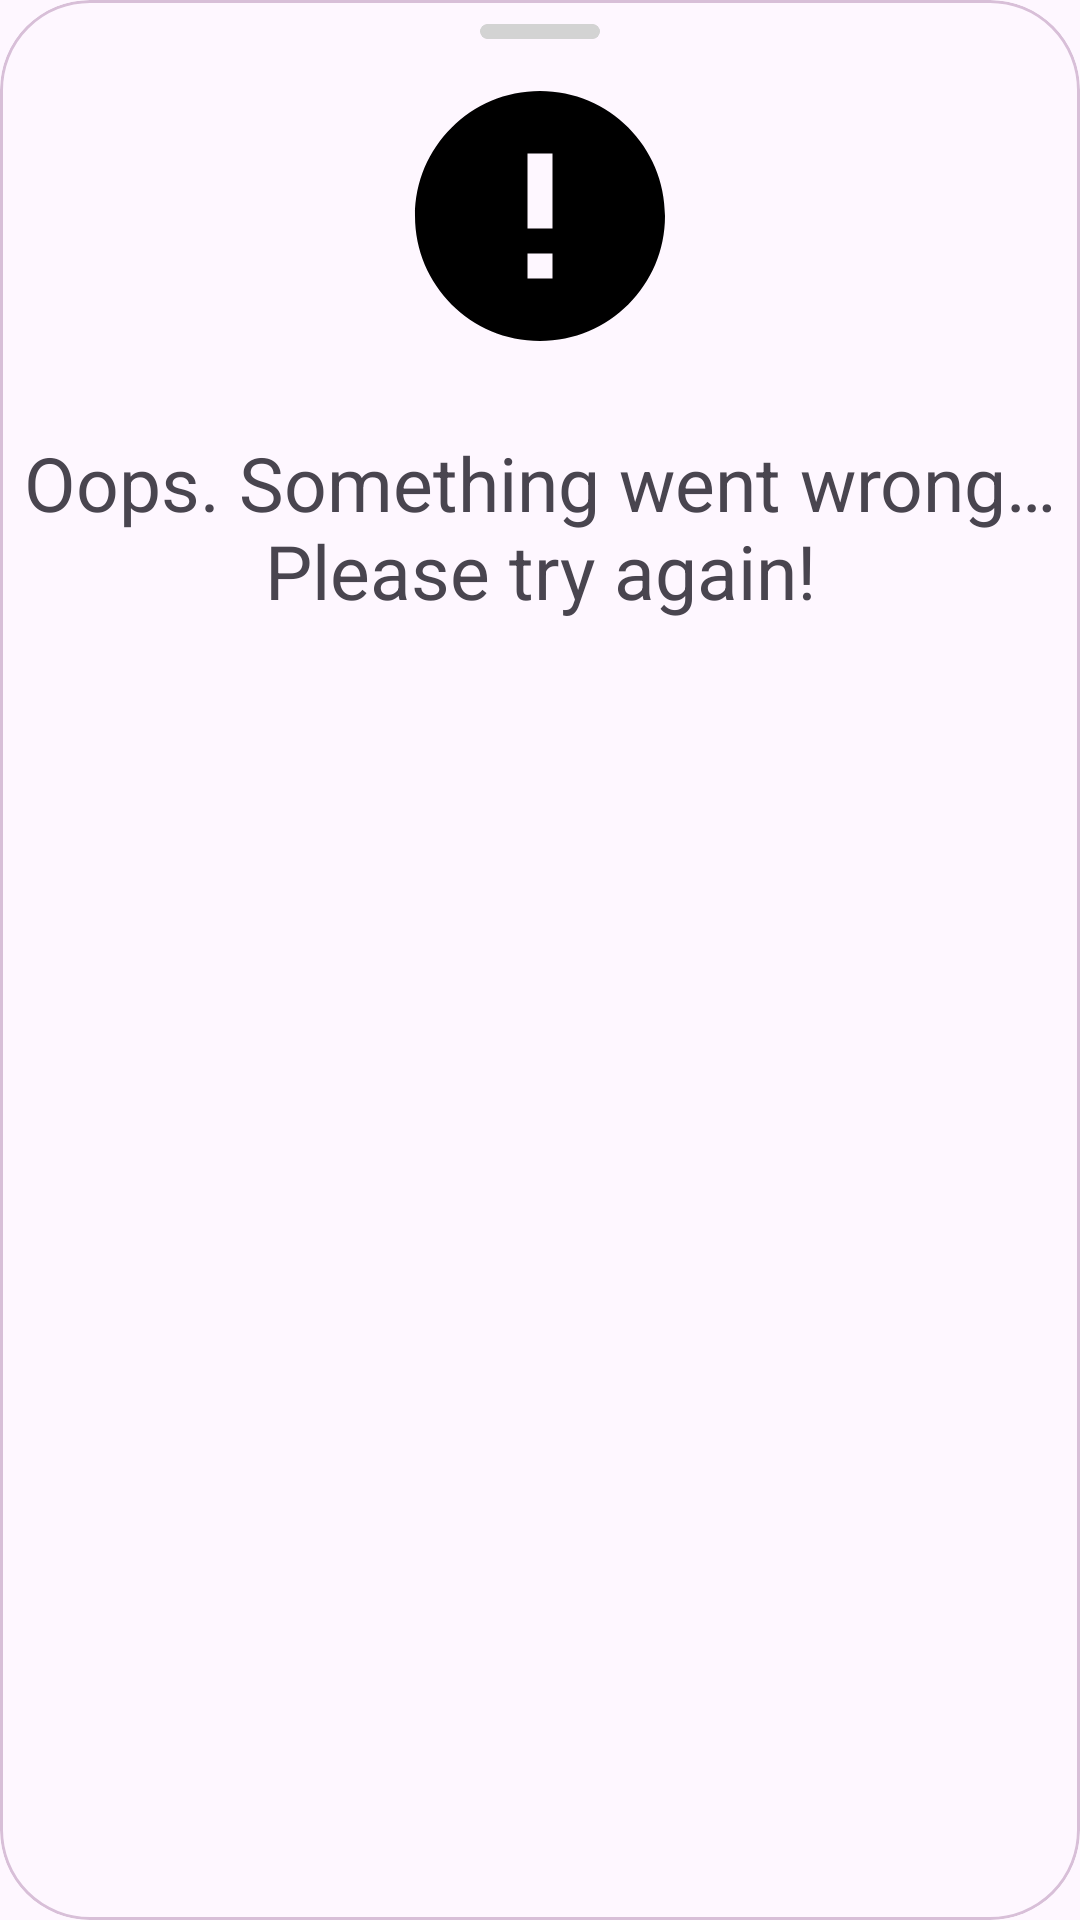

Point at icon controls on the screen. Image size 1080px×1920px, points as (x=x, y=y).
error: (x=540, y=216)
